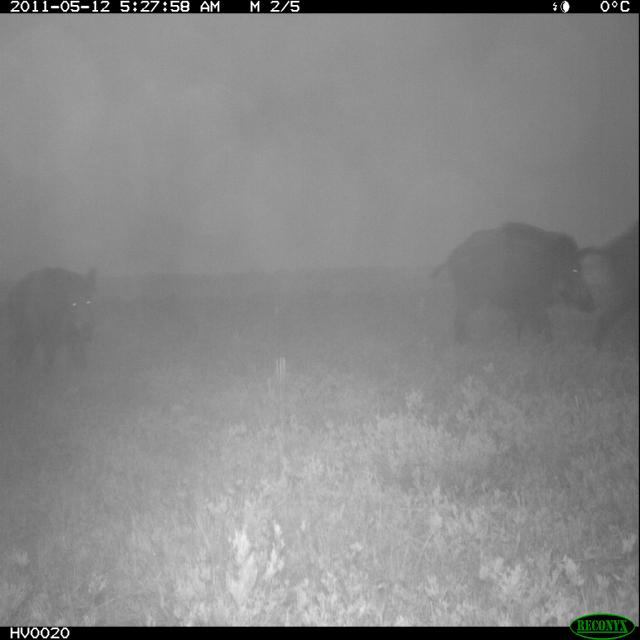boar: (407, 184, 607, 383), (0, 243, 123, 387), (572, 202, 640, 363)
